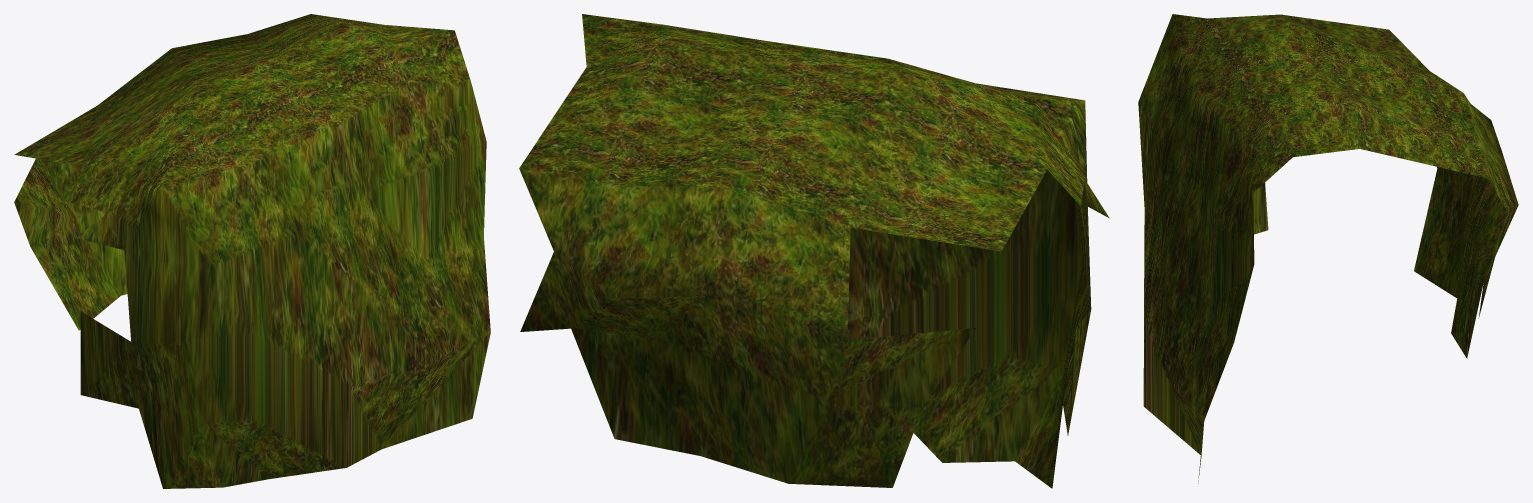
File: TROLLHOLE02_BOX321.fbx
3 views of the same model, side by side, from view 1: azimuth 30°, elevation 25°; view 2: azimuth 150°, elevation 25°; view 3: azimuth 270°, elevation 25° (orthographic). The views are drawn at different scales.
Visible parts, largest first — view 1: TROLLHOLE02_BOX321; view 2: TROLLHOLE02_BOX321; view 3: TROLLHOLE02_BOX321.
Part boxes in pixels (box(x1,y1,x2,y2)): TROLLHOLE02_BOX321: box(14, 14, 490, 488); TROLLHOLE02_BOX321: box(519, 14, 1109, 488); TROLLHOLE02_BOX321: box(1138, 14, 1518, 483).
Bounding box in the file's own units: 98571 × 83881 × 77567.
1 material, 1 textured.
